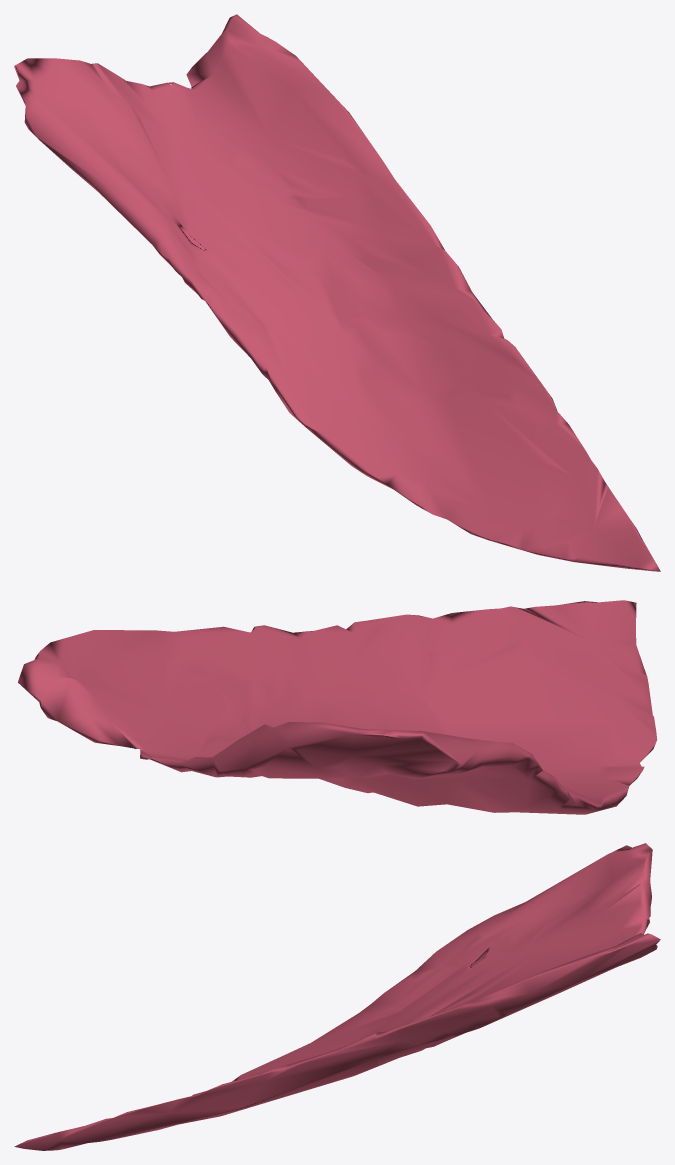
The picture shows the model from 3 angles, top to bottom: view 1: azimuth 30°, elevation 25°; view 2: azimuth 150°, elevation 25°; view 3: azimuth 270°, elevation 25°; orthographic projection. The views are drawn at different scales.
Visible parts, largest first — view 1: 右侧锥状肌; view 2: 右侧锥状肌; view 3: 右侧锥状肌.
Part boxes in pixels (box(x1,y1,x2,y2)): 右侧锥状肌: box(14, 14, 660, 571); 右侧锥状肌: box(18, 600, 657, 814); 右侧锥状肌: box(14, 843, 660, 1150).
Size of the model in its own units: 0.0411 by 0.0397 by 0.1057.
